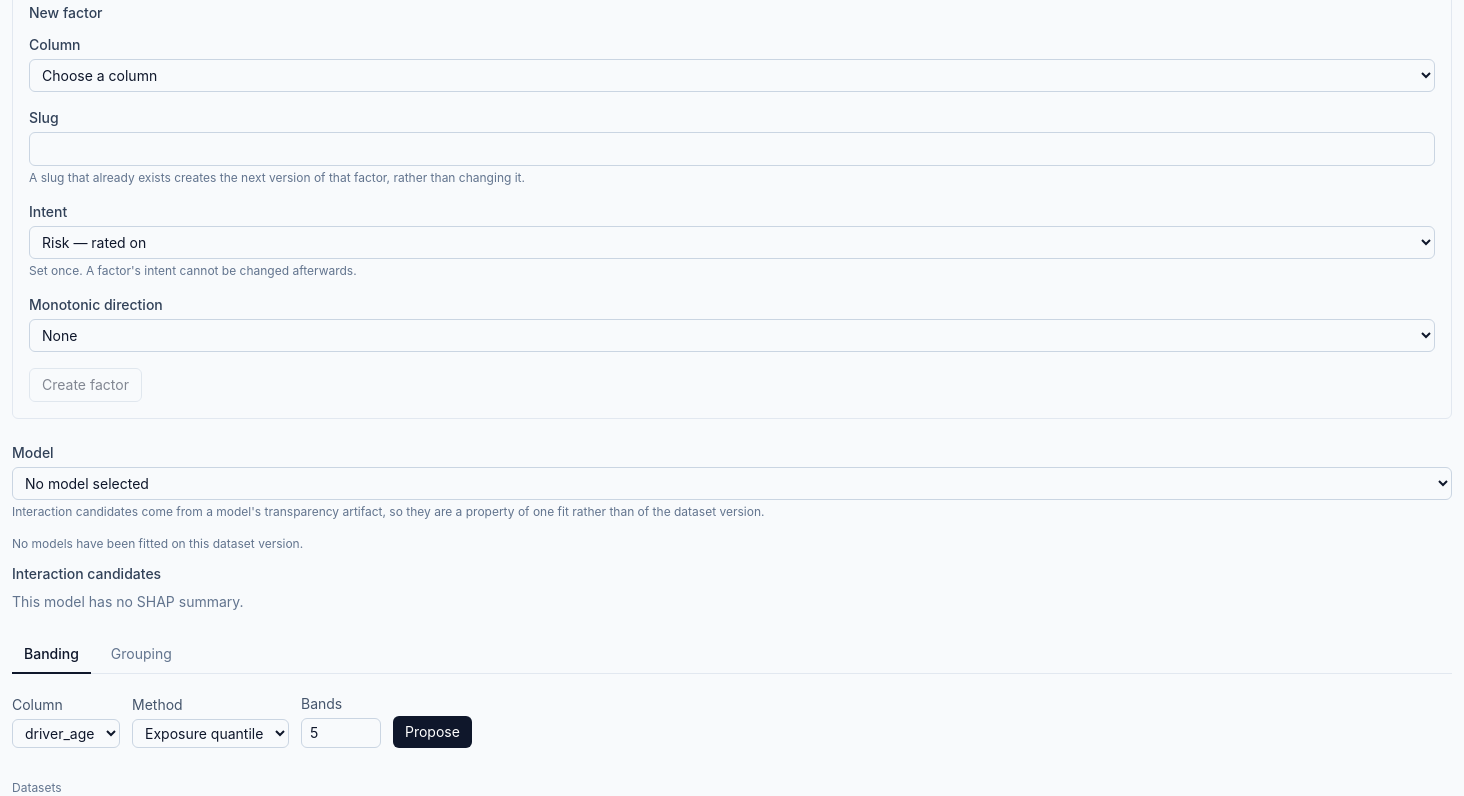
Test: the factor workbench › shows each band's statistics with the interval, not just the frequency
(page scrolled)
Click the button "Propose": [432, 732] box [393,716,472,748]
(page scrolled)
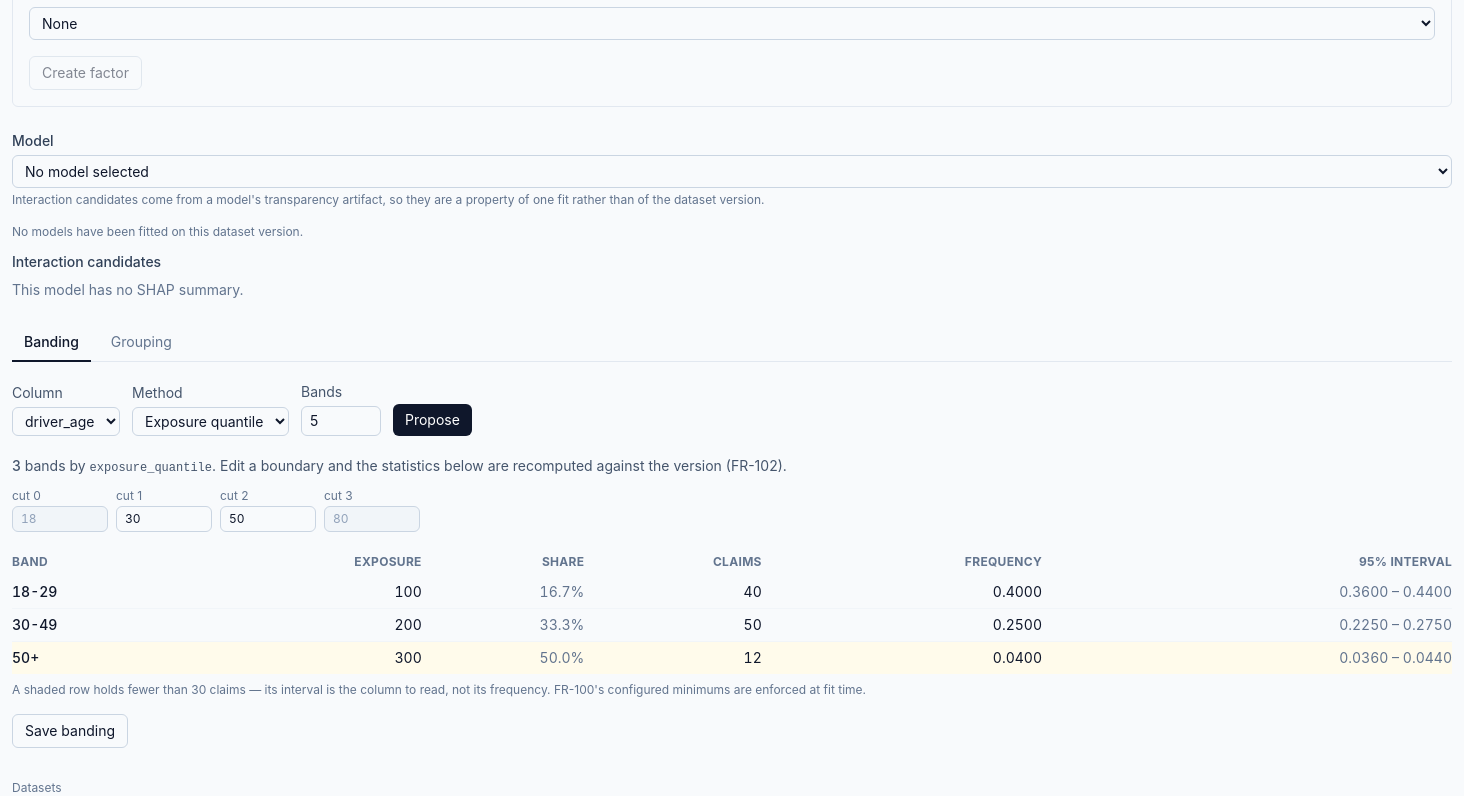
Check: the text "0.4000" is shown, box [762,576,1042,608]
Check: the text "0.3600 – 0.4400" is shown, box [1339,583,1452,600]
